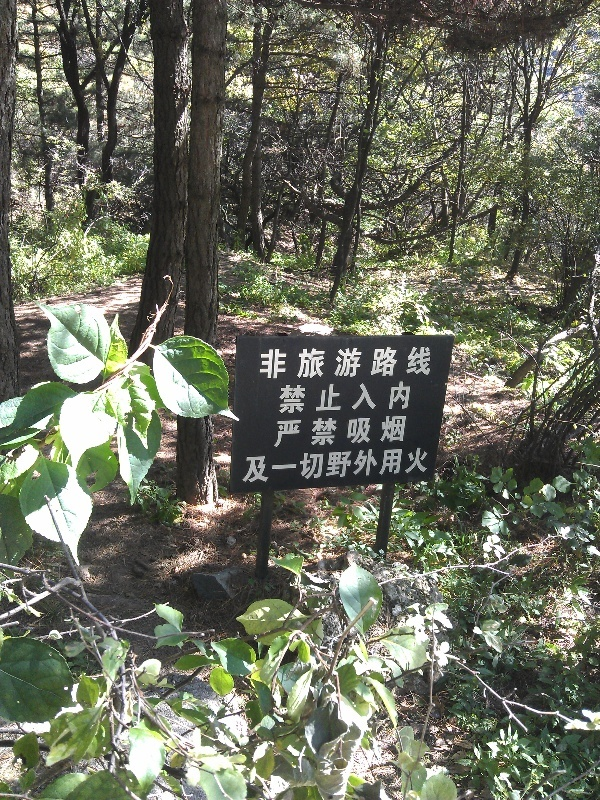text: (257, 446, 272, 484), (273, 446, 288, 484), (289, 446, 304, 484), (305, 446, 320, 484), (321, 446, 336, 484), (337, 446, 352, 484), (353, 446, 368, 484), (369, 446, 384, 484), (385, 446, 400, 484), (401, 446, 416, 484), (417, 446, 431, 484), (289, 380, 304, 415), (305, 380, 320, 415), (321, 380, 336, 415), (337, 380, 352, 415), (353, 380, 368, 415), (369, 380, 384, 415), (385, 380, 400, 415), (289, 414, 304, 449), (305, 414, 320, 449), (321, 414, 336, 449), (337, 414, 352, 449), (353, 414, 368, 449), (369, 414, 384, 449), (385, 414, 400, 449), (273, 346, 288, 380), (289, 346, 304, 380), (305, 346, 320, 380), (321, 346, 336, 380), (337, 346, 352, 380), (353, 346, 368, 380), (369, 346, 384, 380), (385, 346, 400, 380), (401, 346, 416, 380), (417, 346, 432, 380), (243, 446, 256, 484), (401, 380, 413, 415), (276, 414, 288, 449), (261, 346, 272, 380), (281, 380, 288, 415), (401, 414, 408, 449), (433, 346, 435, 380)
